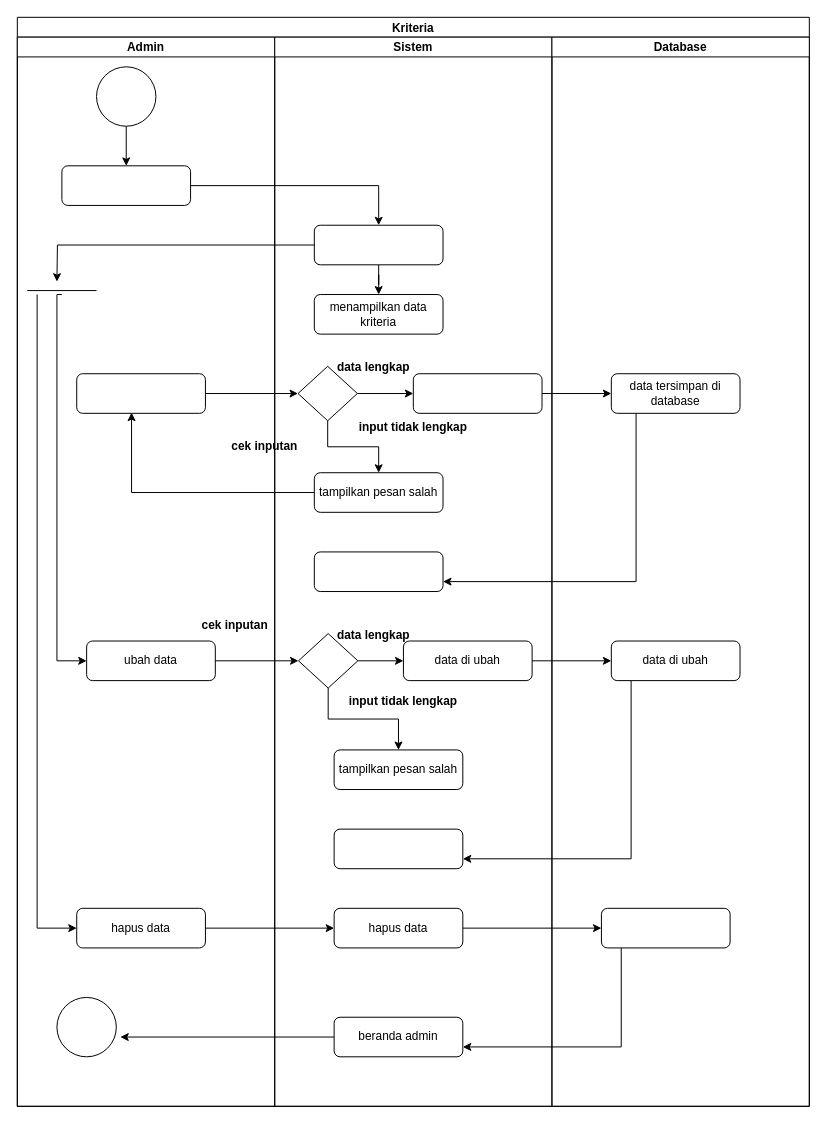
This 827x1124 diagram has some shape labels left out. Each missing label, with the centre of its shape:
"data terhapus" belongs at pixel 665 927.
"pilih menu kriteria" belongs at pixel 126 185.
"tambah data" belongs at pixel 140 393.
"tambah data kriteria" belongs at pixel 477 393.
"tampilkan data diubah" belongs at pixel 398 848.
"tampilkan data yang ditambah" belongs at pixel 378 571.
"tampilkan halaman kriteria" belongs at pixel 378 244.
